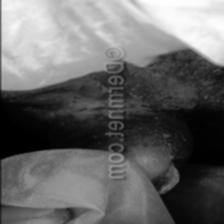Toxin: (134, 76, 222, 119), (14, 93, 106, 125)
